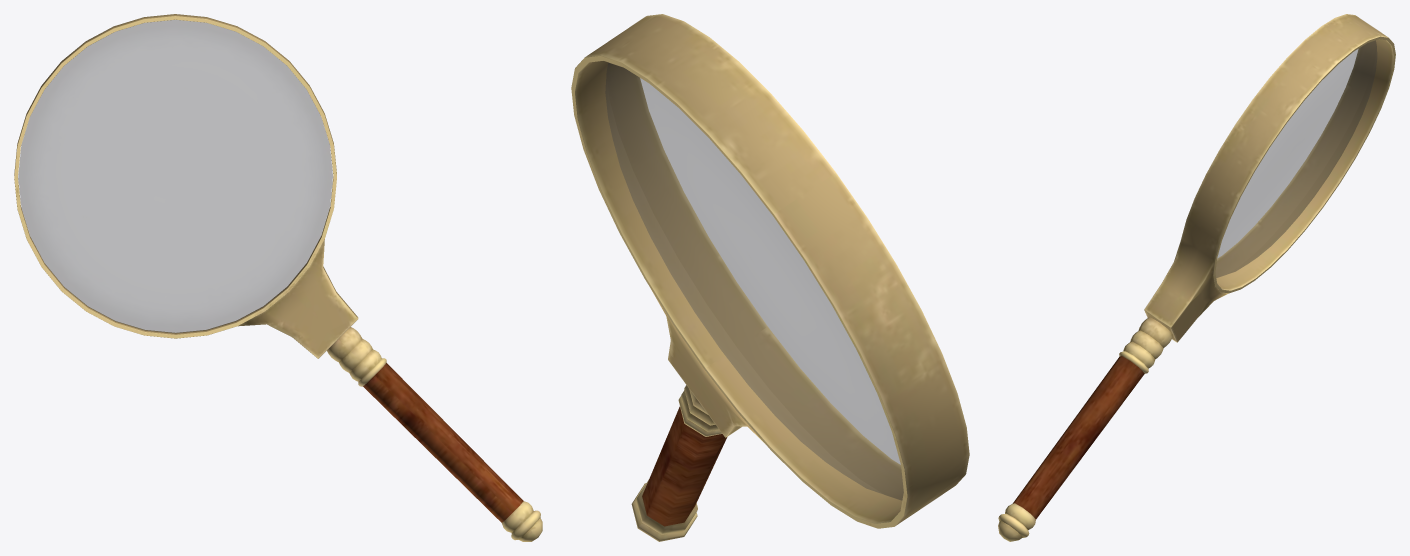
The model's file is magnifier.glb.
3 renders of one model, left to right at view 1: azimuth 30°, elevation 25°; view 2: azimuth 150°, elevation 25°; view 3: azimuth 270°, elevation 25°, orthographic. The views are drawn at different scales.
Parts seen in each view (by area): view 1: glass_0; view 2: glass_0; view 3: glass_0.
Boxes of the visible parts, x1,y1,x2,y2 form: glass_0: [14, 14, 542, 541]; glass_0: [571, 14, 969, 541]; glass_0: [998, 14, 1395, 541].
Size of the model in its own units: 2.59 by 3.16 by 2.67.
1 material, 1 textured.
